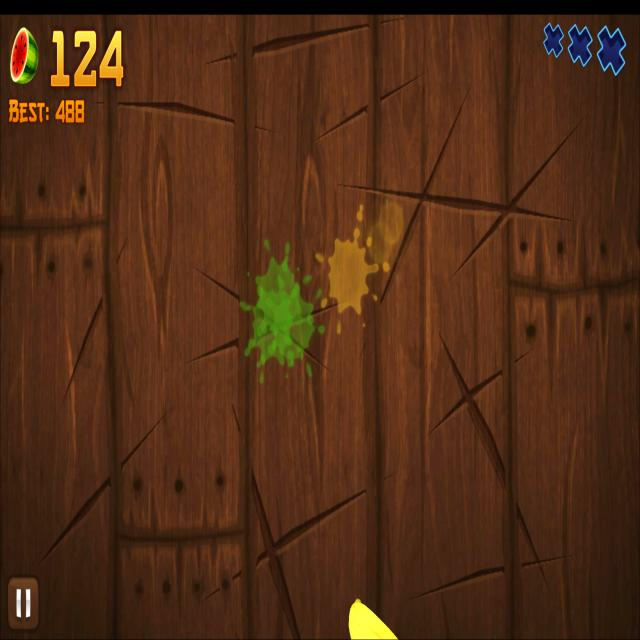fruit: (349, 599, 398, 640)
